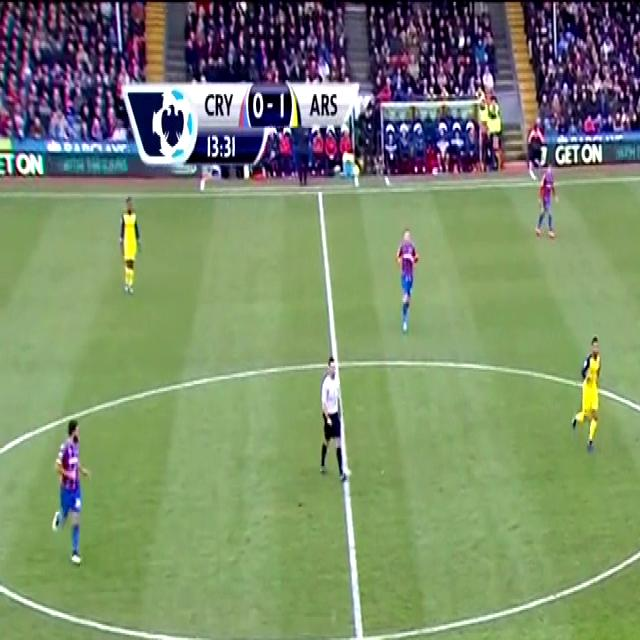referee: (312, 370, 359, 487)
soccer-player: (39, 414, 102, 570), (565, 333, 612, 462), (389, 224, 432, 340), (113, 197, 153, 306), (533, 166, 567, 246), (639, 595, 640, 640)
